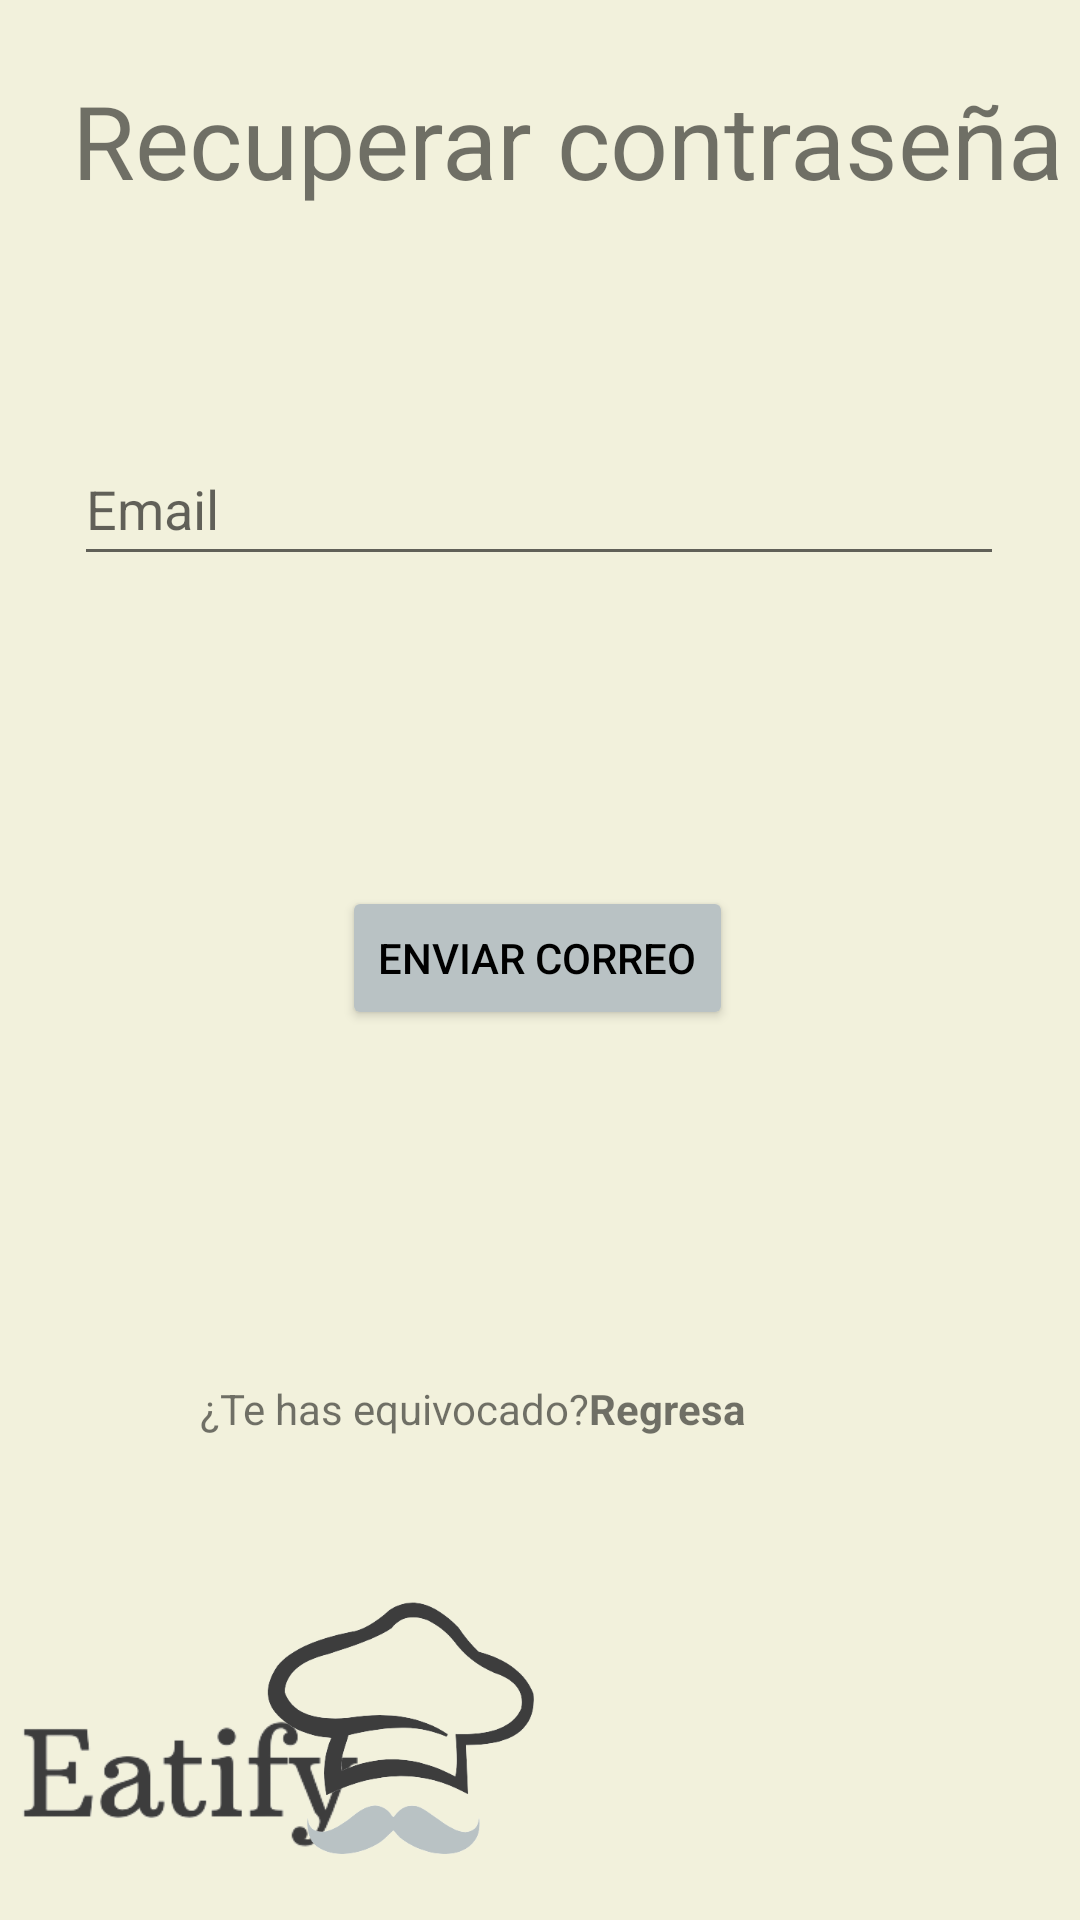

Point at icon controls on the screen. Image size 1080×1920, points as [x,y].
sombrero eatify: [375,1728]
